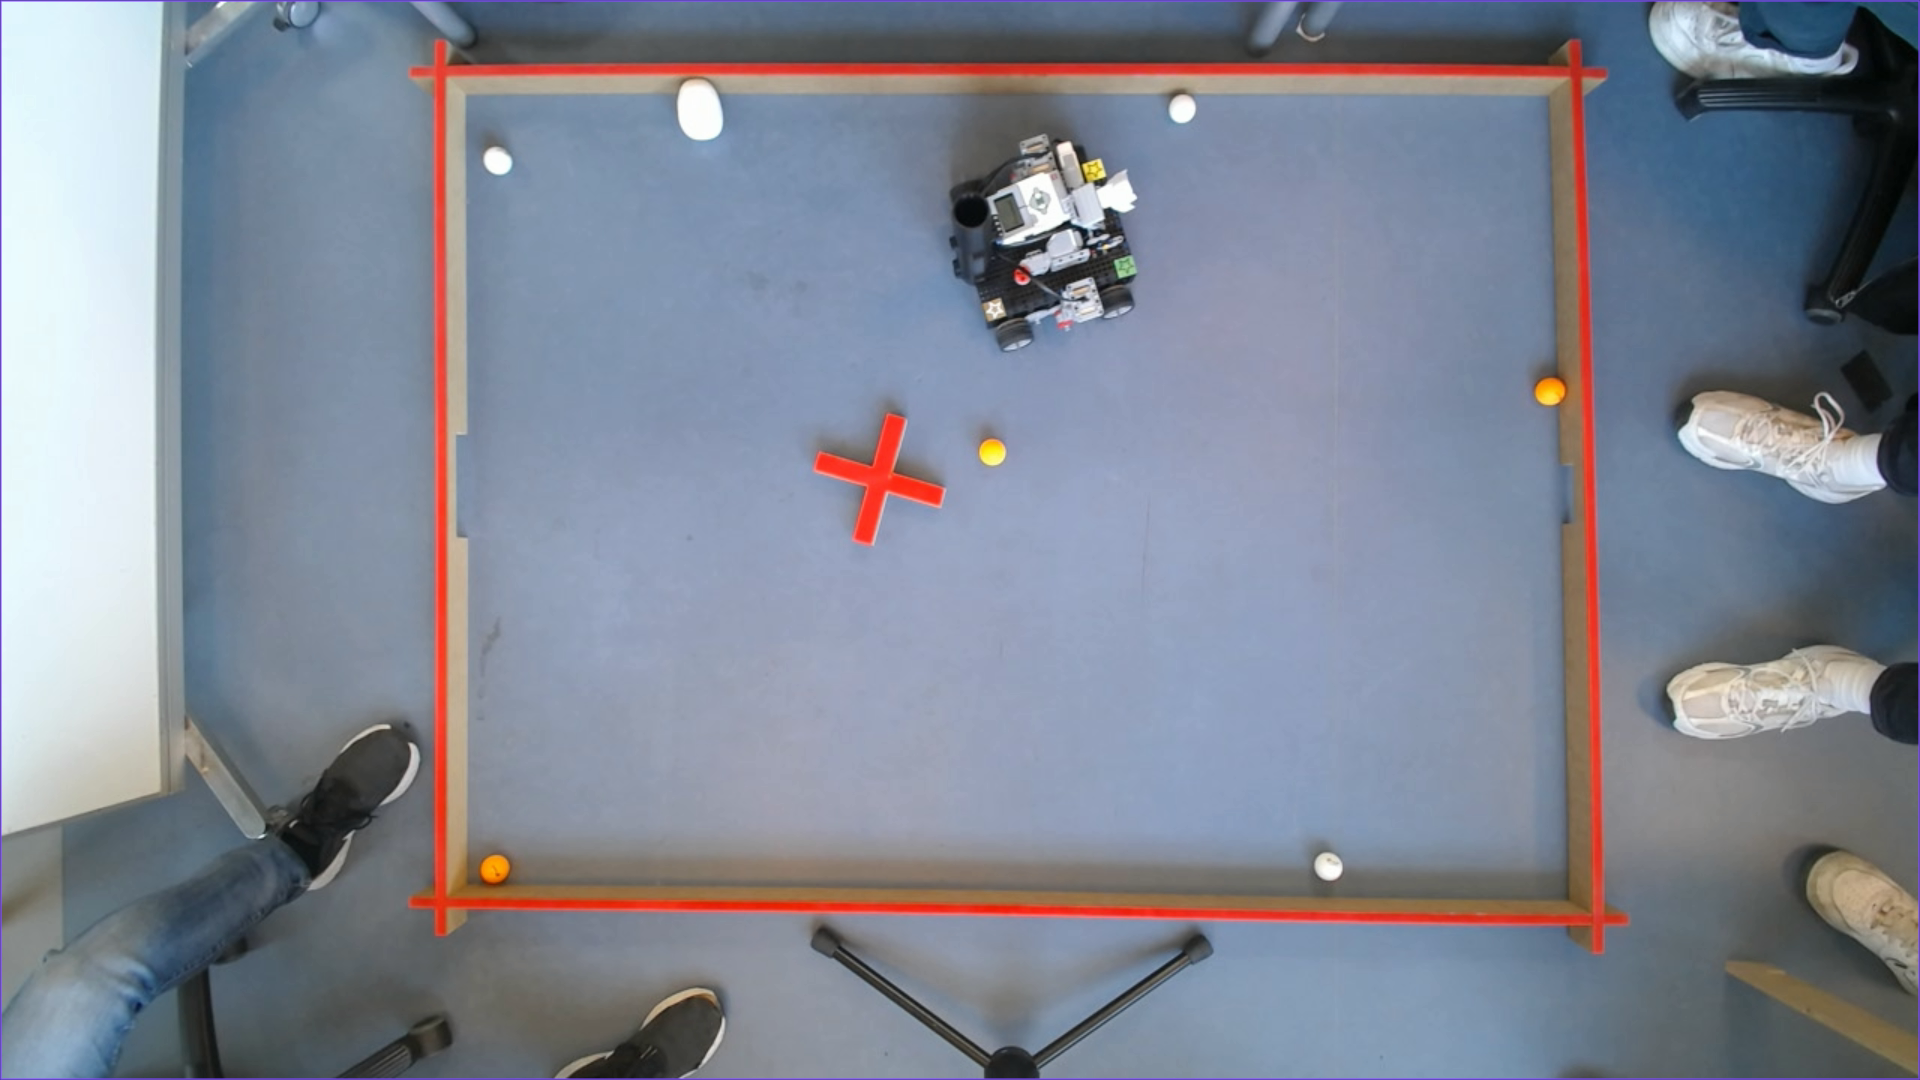ball_orange: (1534, 376, 1567, 406), (479, 855, 512, 884), (978, 439, 1007, 465)
ball_white: (483, 146, 514, 175), (1168, 94, 1196, 124), (1313, 852, 1342, 880)
corner_brown: (981, 297, 1007, 322)
corner_green: (1113, 255, 1137, 278)
corner_yellow: (1083, 158, 1106, 182)
cross: (814, 413, 945, 546)
egg: (676, 78, 724, 141)
playfield: (434, 63, 1604, 926)
